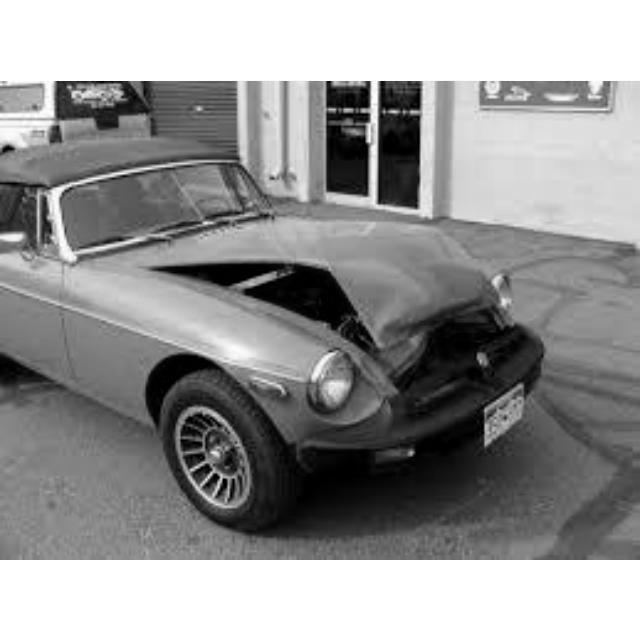bonnet-dent: (190, 214, 496, 330)
